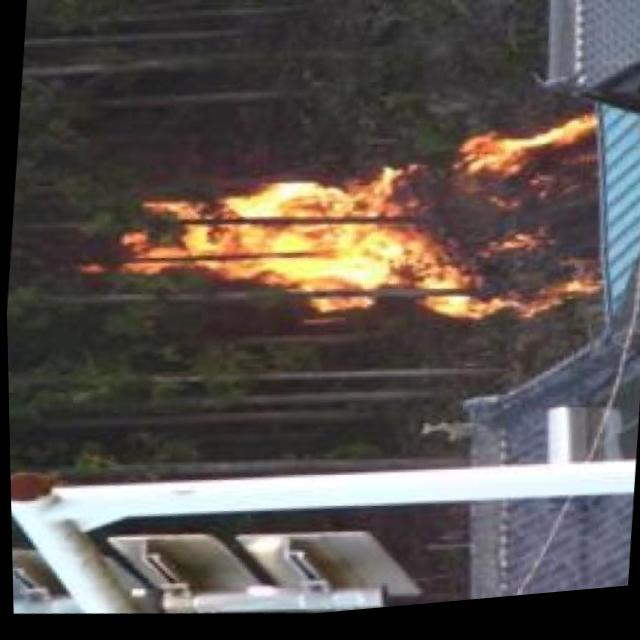fire: (96, 88, 614, 358)
